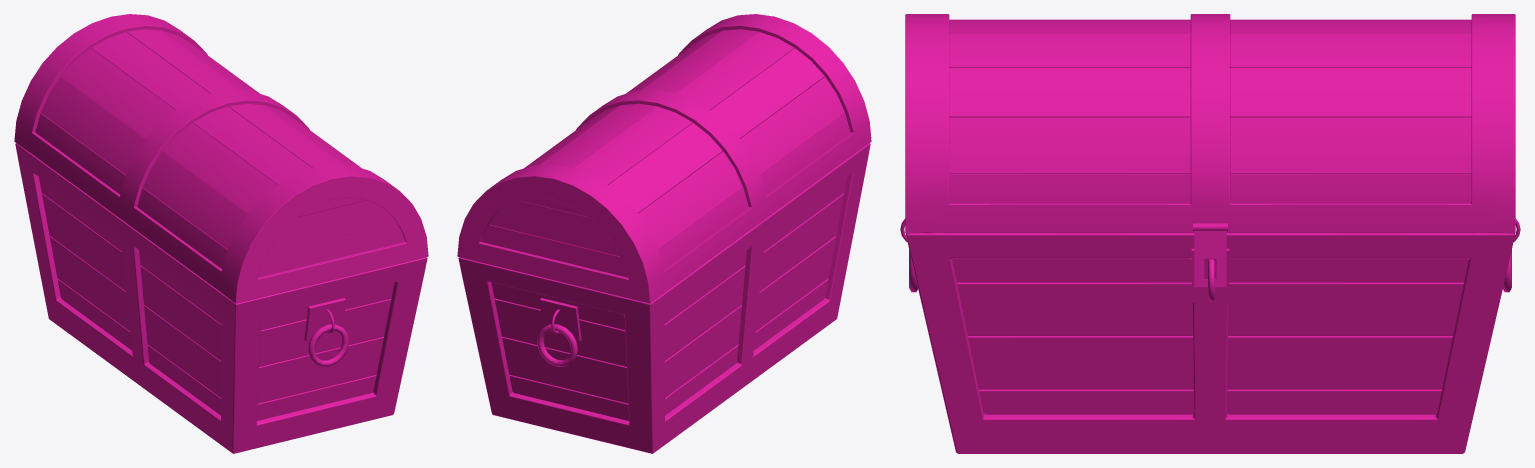
Rendered from chest.fbx.
3 renders of one model, left to right at view 1: azimuth 30°, elevation 25°; view 2: azimuth 150°, elevation 25°; view 3: azimuth 270°, elevation 25°, orthographic. The views are drawn at different scales.
Visible parts, largest first — view 1: Cube.007, Cube.008, Cube.006, Cube.009, Cube.010, BezierCircle.002; view 2: Cube.007, Cube.008, Cube.006, Cube.009, Cube.010, BezierCircle.002; view 3: Cube.007, Cube.006, Cube.008, Cube.009, Cylinder.001, Cube.011, BezierCircle.002.
Boxes of the visible parts, x1,y1,x2,y2 form: Cube.007: (35, 29, 404, 277); Cube.008: (15, 143, 427, 453); Cube.006: (39, 177, 394, 420); Cube.009: (14, 14, 428, 303); Cube.010: (304, 298, 345, 341); BezierCircle.002: (308, 309, 348, 366); Cube.007: (481, 29, 850, 277); Cube.008: (458, 143, 870, 453); Cube.006: (491, 177, 846, 420); Cube.009: (457, 14, 871, 303); Cube.010: (540, 298, 581, 341); BezierCircle.002: (537, 309, 577, 366); Cube.007: (949, 19, 1471, 202); Cube.006: (952, 258, 1468, 414); Cube.008: (906, 232, 1514, 453); Cube.009: (905, 14, 1515, 233); Cylinder.001: (1193, 223, 1227, 287); Cube.011: (1191, 248, 1229, 302); BezierCircle.002: (900, 218, 1520, 292).
Bounding box in the file's own units: 266 × 332 × 501.
